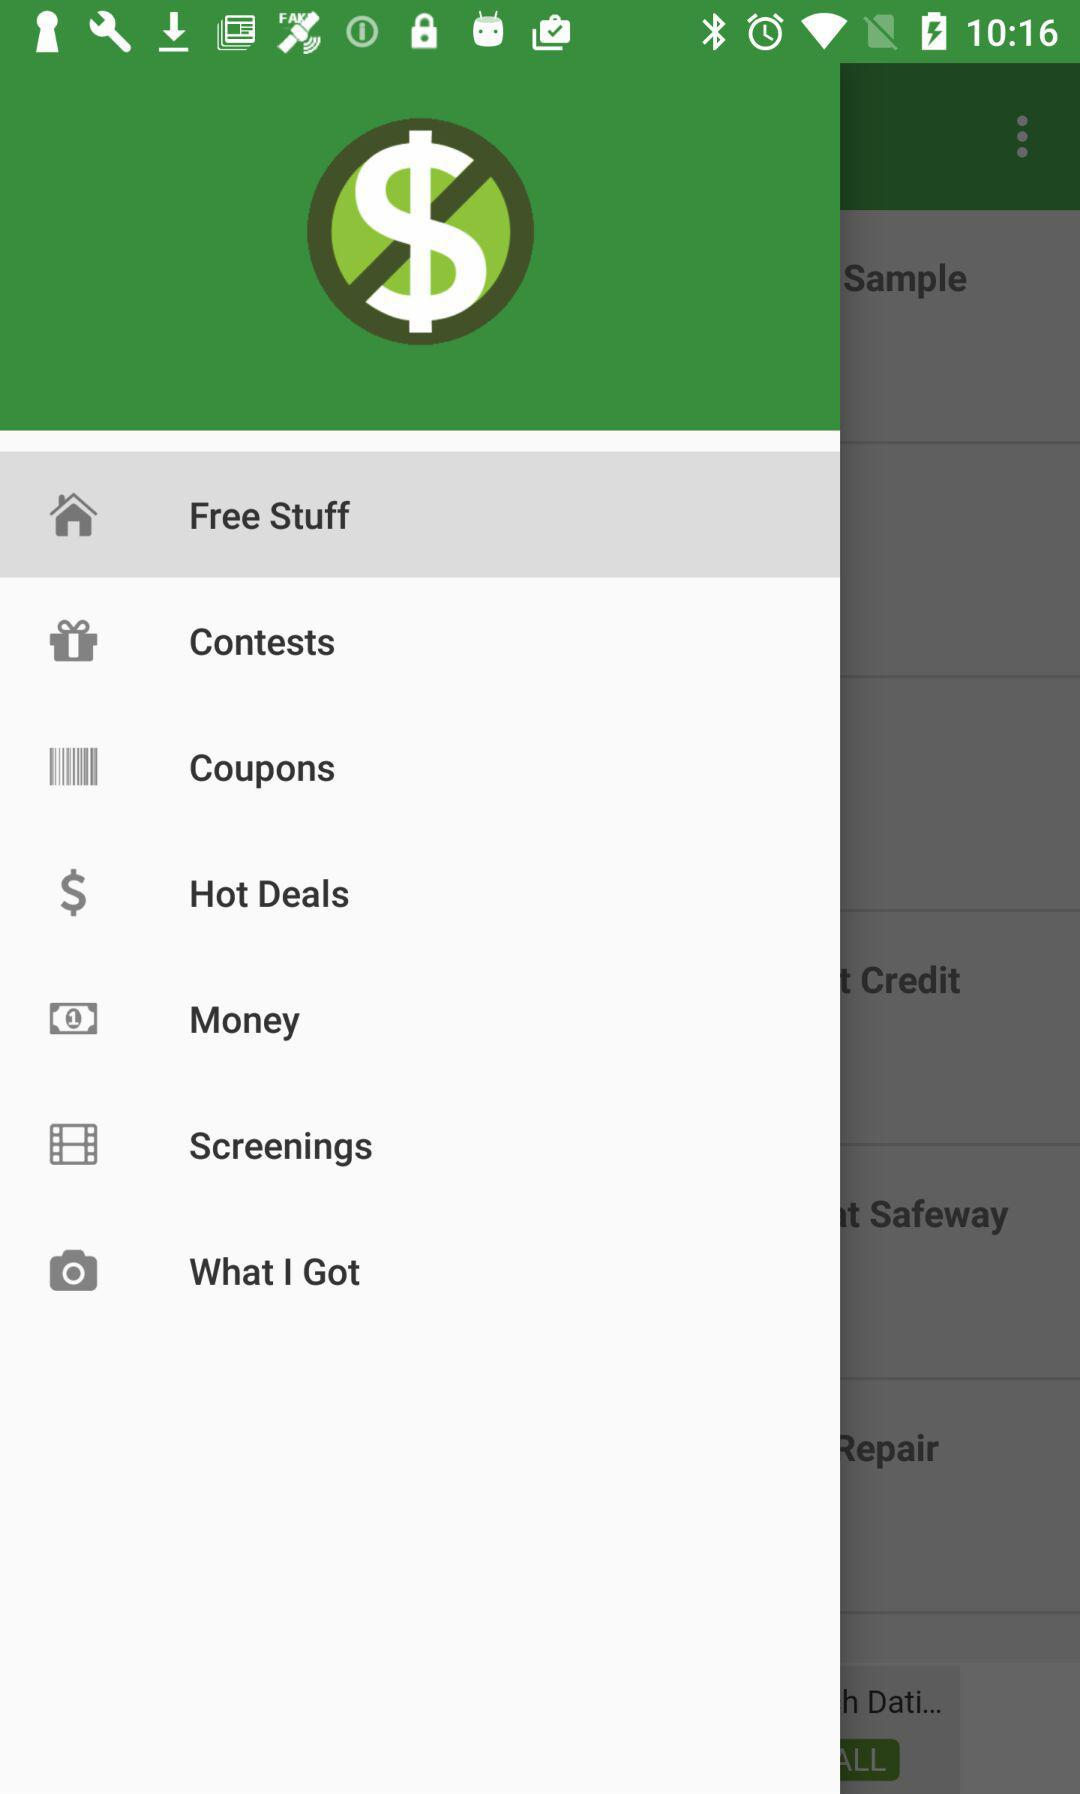Drawer: (1, 67, 840, 1794)
Icon: (49, 490, 100, 539), (50, 619, 100, 664), (50, 1249, 99, 1292), (60, 868, 88, 918), (1015, 114, 1030, 160)
Image: (306, 117, 536, 347), (47, 746, 100, 788), (50, 1123, 99, 1166), (50, 1002, 99, 1035)
Text: (190, 1130, 373, 1167), (190, 1256, 363, 1288), (190, 753, 337, 789), (190, 500, 352, 532), (190, 876, 351, 909), (190, 627, 337, 660), (190, 1005, 304, 1042)
UpperTaskBar: (1, 1, 1080, 64)
